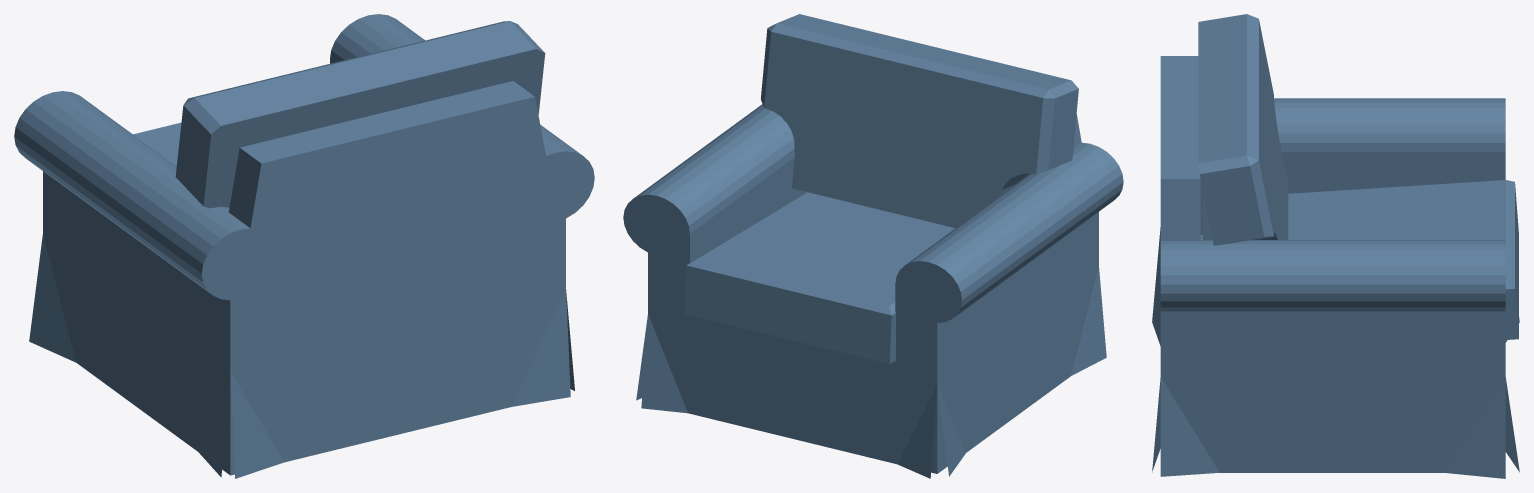
3 views of the same model, side by side, from view 1: azimuth 30°, elevation 25°; view 2: azimuth 150°, elevation 25°; view 3: azimuth 270°, elevation 25° (orthographic). The views are drawn at different scales.
Parts seen in each view (by area): view 1: Mesh2 EKTORP_chb1 Group1 Model, Mesh1 Ektorp_chp2_1 Group1 Model, Mesh3 EKTORP_chp1_1 Group1 Model; view 2: Mesh2 EKTORP_chb1 Group1 Model, Mesh1 Ektorp_chp2_1 Group1 Model, Mesh3 EKTORP_chp1_1 Group1 Model; view 3: Mesh2 EKTORP_chb1 Group1 Model, Mesh1 Ektorp_chp2_1 Group1 Model, Mesh3 EKTORP_chp1_1 Group1 Model.
Part boxes in pixels (box(x1,y1,x2,y2)): Mesh2 EKTORP_chb1 Group1 Model: box(14, 14, 594, 478); Mesh1 Ektorp_chp2_1 Group1 Model: box(175, 21, 545, 208); Mesh3 EKTORP_chp1_1 Group1 Model: box(133, 122, 181, 165); Mesh2 EKTORP_chb1 Group1 Model: box(623, 104, 1123, 478); Mesh1 Ektorp_chp2_1 Group1 Model: box(761, 14, 1078, 228); Mesh3 EKTORP_chp1_1 Group1 Model: box(684, 192, 954, 363); Mesh2 EKTORP_chb1 Group1 Model: box(1152, 56, 1519, 478); Mesh1 Ektorp_chp2_1 Group1 Model: box(1198, 14, 1288, 245); Mesh3 EKTORP_chp1_1 Group1 Model: box(1202, 180, 1518, 339).
Size of the model in its own units: 0.6739 by 0.5579 by 0.5939.
